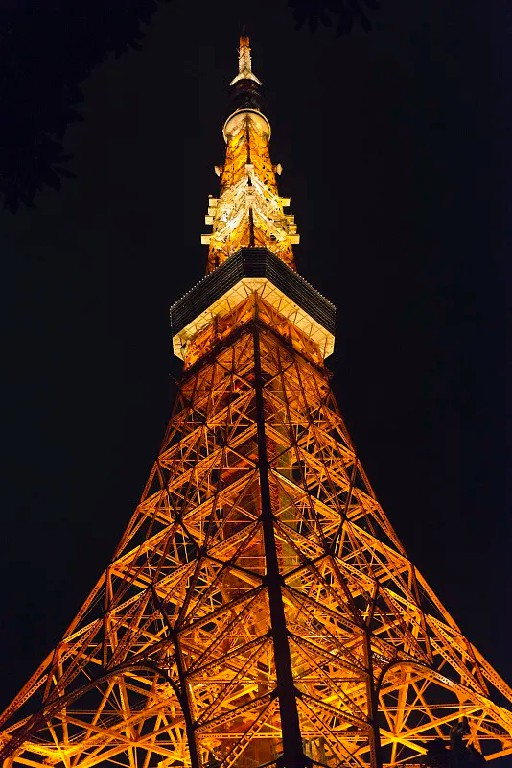Tokyo: (1, 21, 510, 767)
